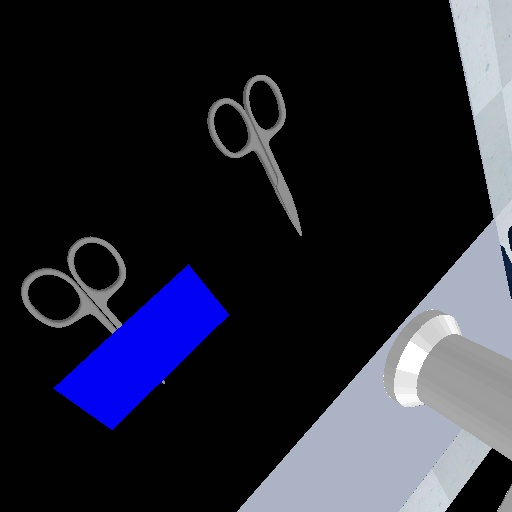tijera: (196, 66, 311, 243), (11, 222, 129, 336)
